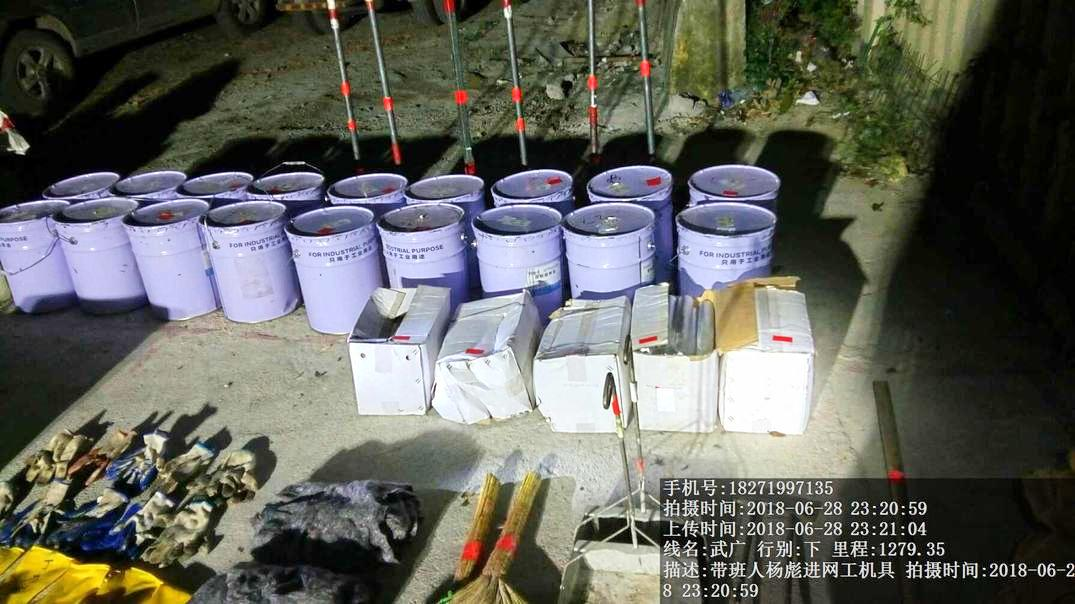SB: (450, 467, 536, 600)
